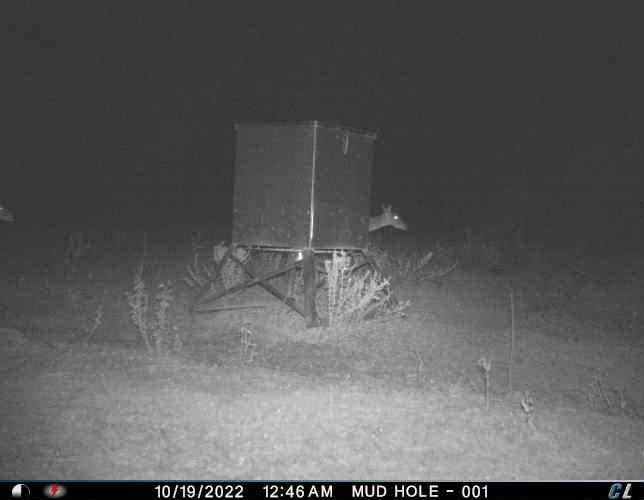Deer: (372, 200, 409, 238), (0, 198, 18, 229)
